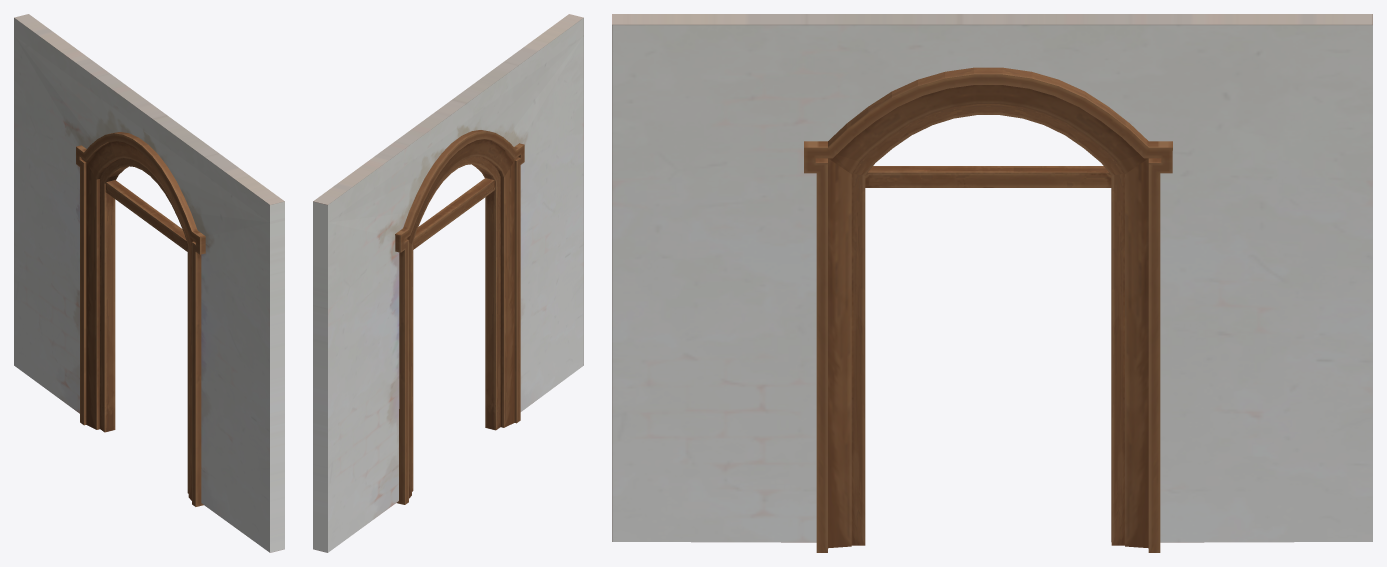
Rendered from sm_building_door01_01.fbx.
The picture shows the model from 3 angles, left to right: view 1: azimuth 30°, elevation 25°; view 2: azimuth 150°, elevation 25°; view 3: azimuth 270°, elevation 25°; orthographic projection. The views are drawn at different scales.
Visible parts, largest first — view 1: wall, door; view 2: wall, door; view 3: wall, door.
Boxes of the visible parts, <box> form: wall: <box>14,14,284,552</box>; door: <box>76,132,205,506</box>; wall: <box>313,14,583,552</box>; door: <box>395,130,524,504</box>; wall: <box>612,14,1372,542</box>; door: <box>804,67,1172,552</box>.
Bounding box in the file's own units: 34.66 × 388 × 512.
Materials: 1 (1 with a texture image).
